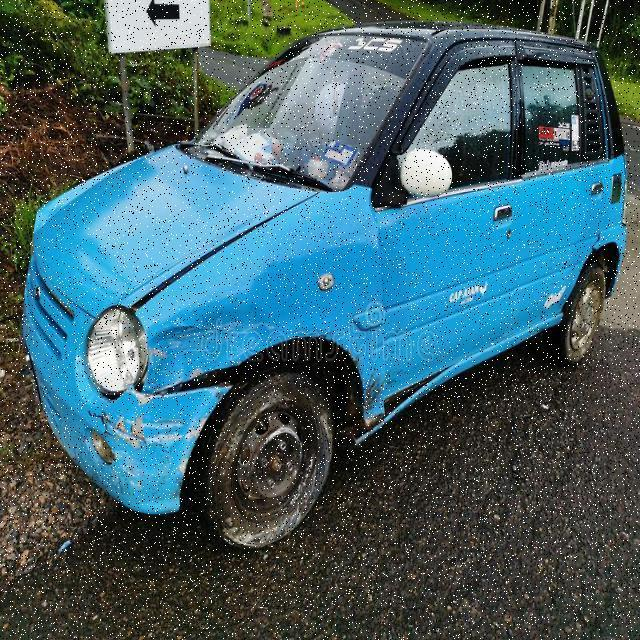fender-dent: (142, 260, 382, 434)
front-bumper-dent: (1, 349, 205, 512)
